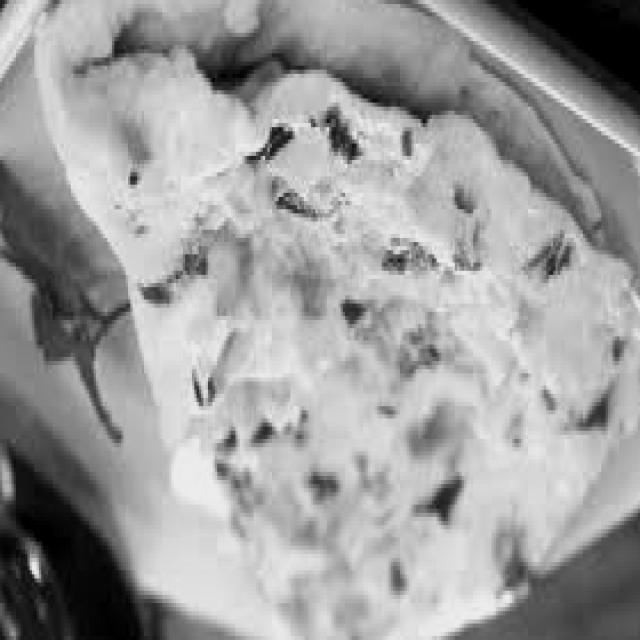telur_dadar: (69, 8, 628, 640)
